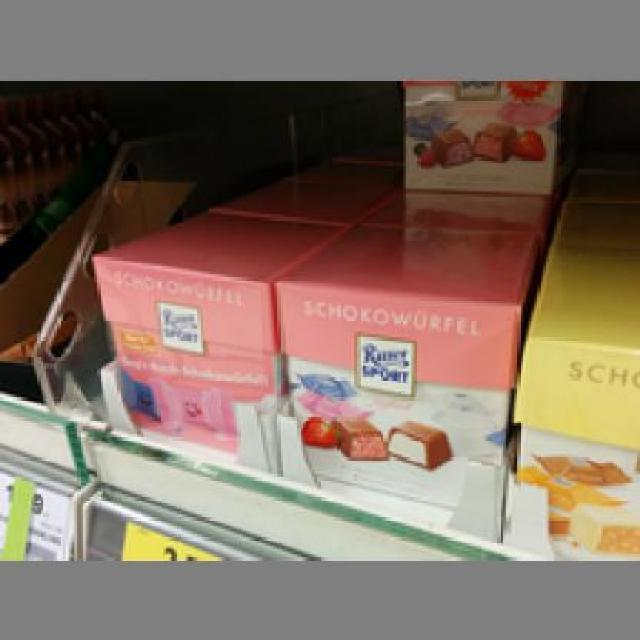Chocolate: (277, 226, 537, 494), (76, 203, 310, 466), (386, 82, 557, 192)
